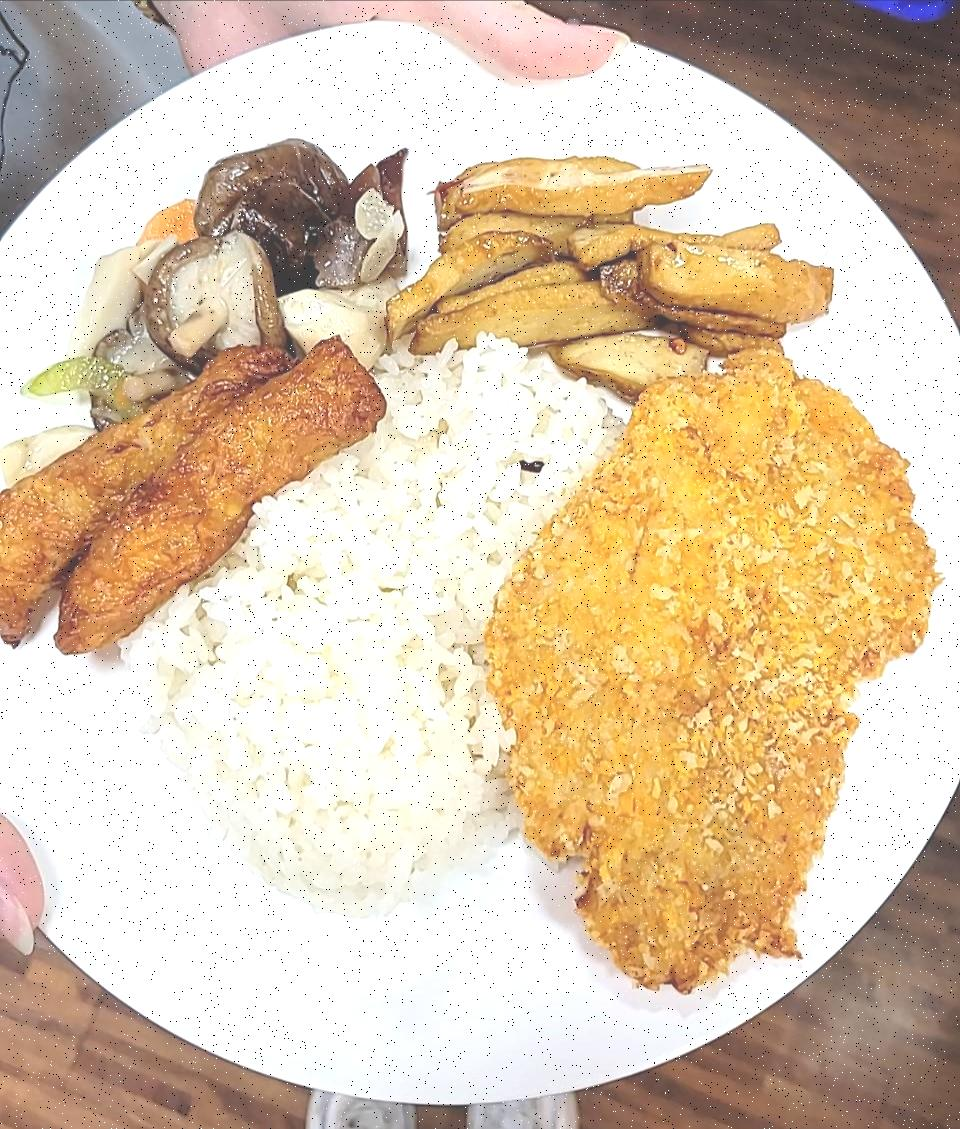big fried chicken leg: (0, 18, 960, 1119)
big herbal chicken leg: (107, 340, 636, 930)
braised fish fillet: (365, 148, 846, 396), (54, 121, 426, 416)
braised pork: (473, 358, 943, 993), (0, 313, 390, 653)
